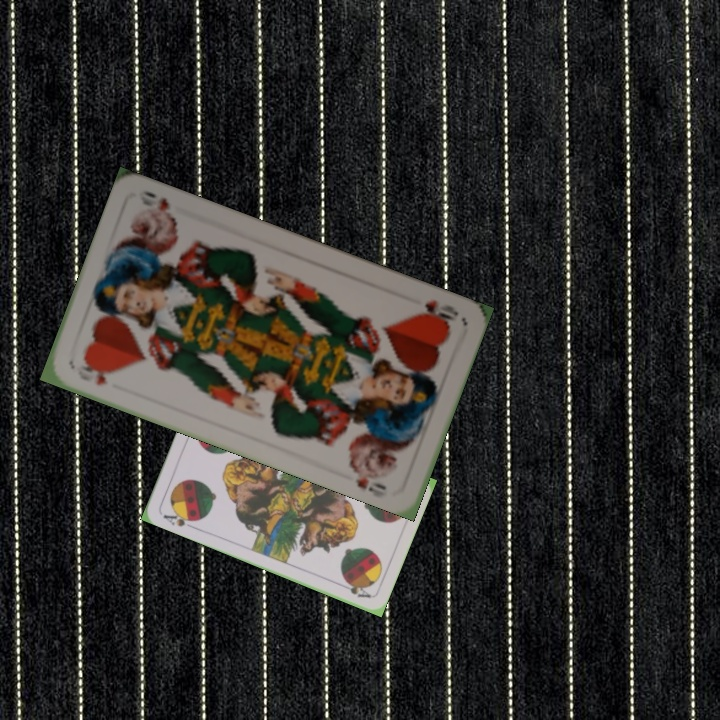HO: (412, 296, 461, 328), (72, 359, 117, 388)
SA: (159, 507, 199, 531)
